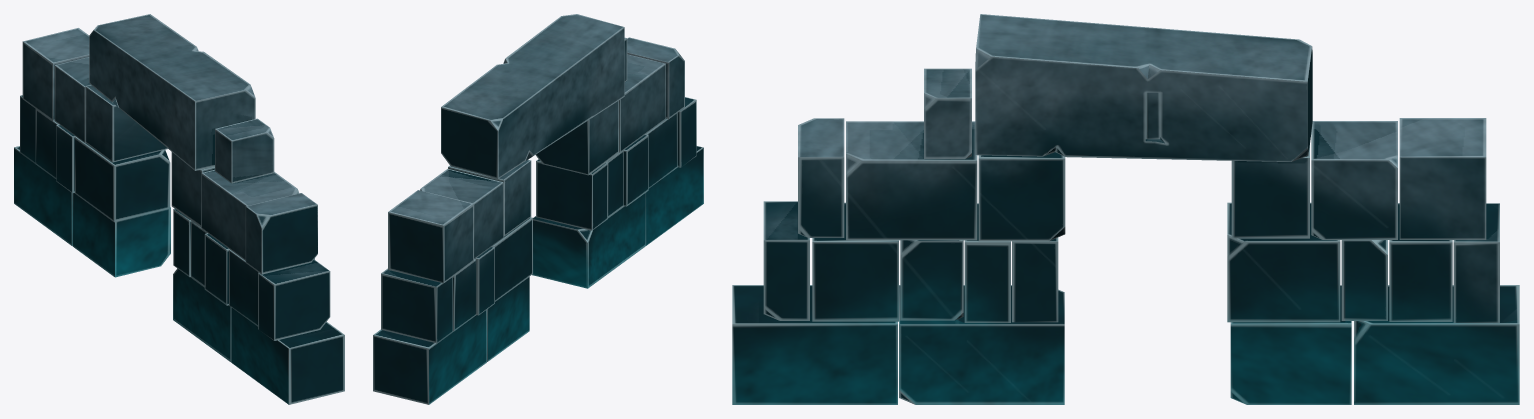
The model's file is passagem tijolos.fbx.
3 renders of one model, left to right at view 1: azimuth 30°, elevation 25°; view 2: azimuth 150°, elevation 25°; view 3: azimuth 270°, elevation 25°, orthographic. The views are drawn at different scales.
Visible parts, largest first — view 1: passagem tijolos; view 2: passagem tijolos; view 3: passagem tijolos.
Boxes of the visible parts, bbox=[...] form: passagem tijolos: bbox=[14, 14, 344, 404]; passagem tijolos: bbox=[373, 14, 703, 404]; passagem tijolos: bbox=[732, 14, 1519, 404].
Size of the model in its own units: 45.23 by 150 by 309.
Materials: 1 (1 with a texture image).
